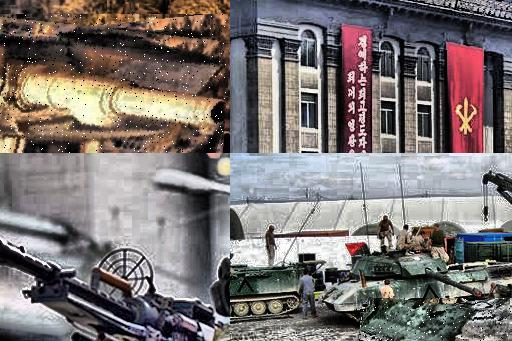tanks: (1, 19, 228, 154), (1, 239, 231, 341), (323, 252, 512, 325), (360, 299, 512, 341)
